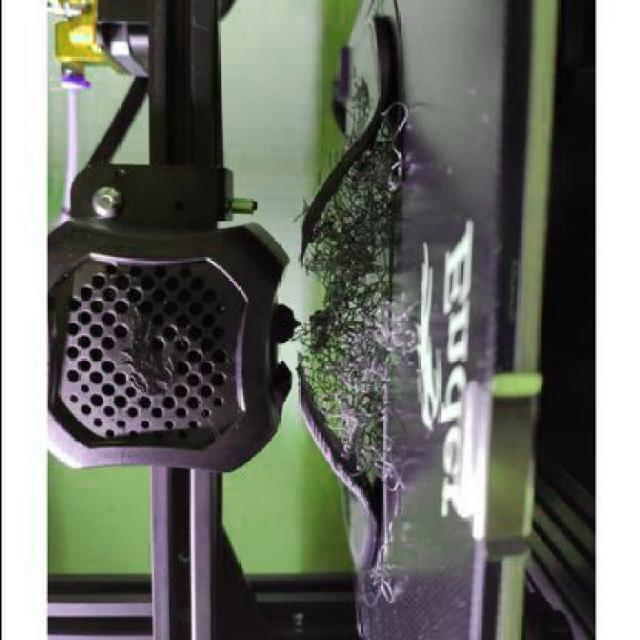spaghetti: (290, 99, 406, 492), (369, 518, 394, 604)
